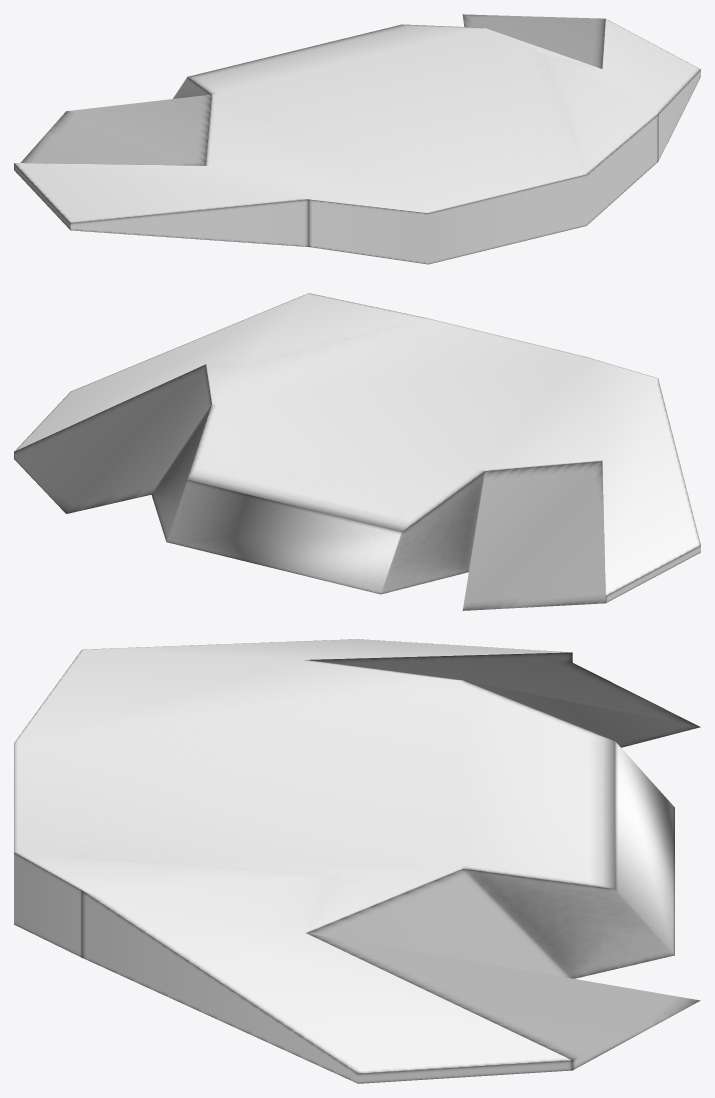
Rendered from enemyFatboy.dae.
3 renders of one model, top to bottom at view 1: azimuth 30°, elevation 25°; view 2: azimuth 150°, elevation 25°; view 3: azimuth 270°, elevation 25°, orthographic. The views are drawn at different scales.
Visible parts, largest first — view 1: Mesh; view 2: Mesh; view 3: Mesh.
Boxes of the visible parts, bbox=[...] form: Mesh: bbox=[14, 14, 700, 264]; Mesh: bbox=[14, 293, 700, 610]; Mesh: bbox=[14, 639, 700, 1083].
Bounding box in the file's own units: 9.12 × 1.09 × 6.1.
1 material, 1 textured.
